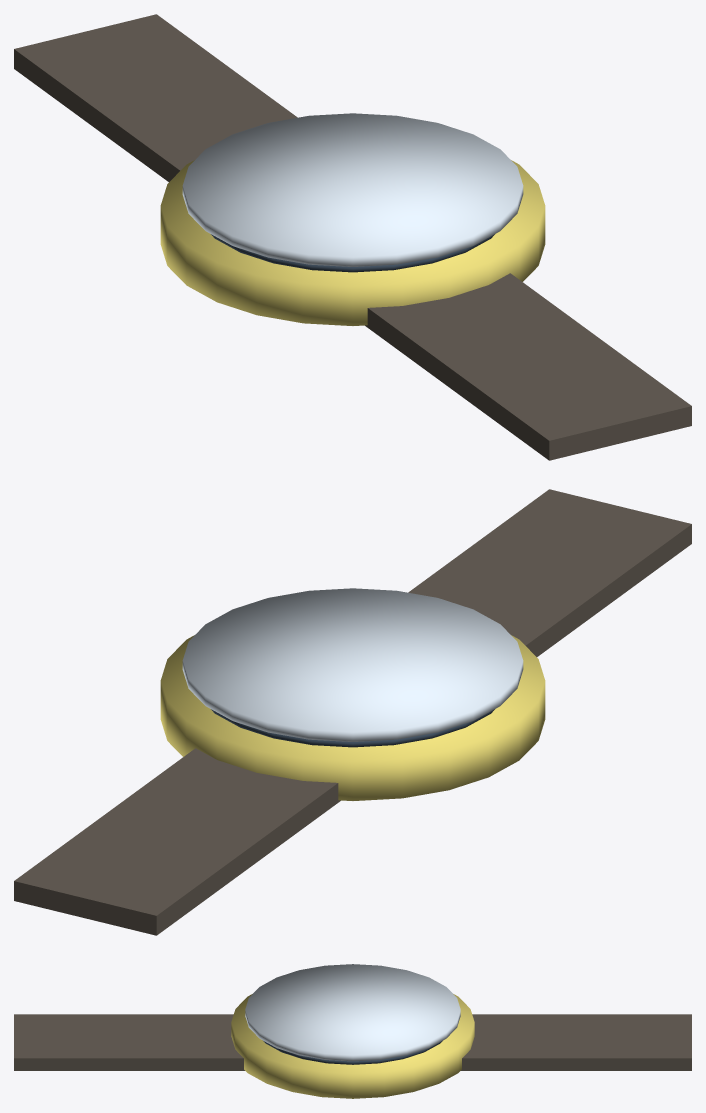
Rendered from cebfb673-1cf8-4587-ae26-c9e85727c9a2.glb.
The picture shows the model from 3 angles, top to bottom: view 1: azimuth 30°, elevation 25°; view 2: azimuth 150°, elevation 25°; view 3: azimuth 270°, elevation 25°; orthographic projection. The views are drawn at different scales.
Parts seen in each view (by area): view 1: Generated3DMesh; view 2: Generated3DMesh; view 3: Generated3DMesh.
Boxes of the visible parts, x1,y1,x2,y2 form: Generated3DMesh: [14, 14, 691, 460]; Generated3DMesh: [14, 489, 691, 935]; Generated3DMesh: [14, 964, 691, 1098].
Bounding box in the file's own units: 1.4 × 0.25 × 3.9.
